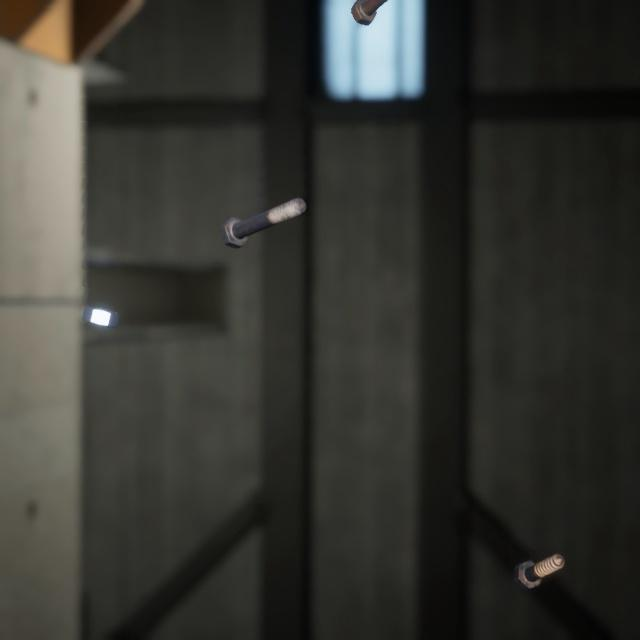bolt: (215, 177, 310, 237), (509, 526, 569, 572), (346, 0, 387, 25)
nut: (77, 283, 123, 314)
